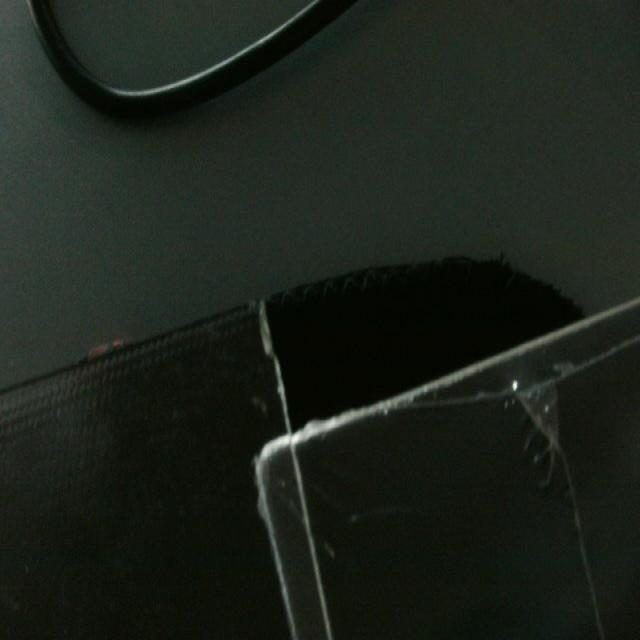edge_chip: (243, 285, 295, 428)
